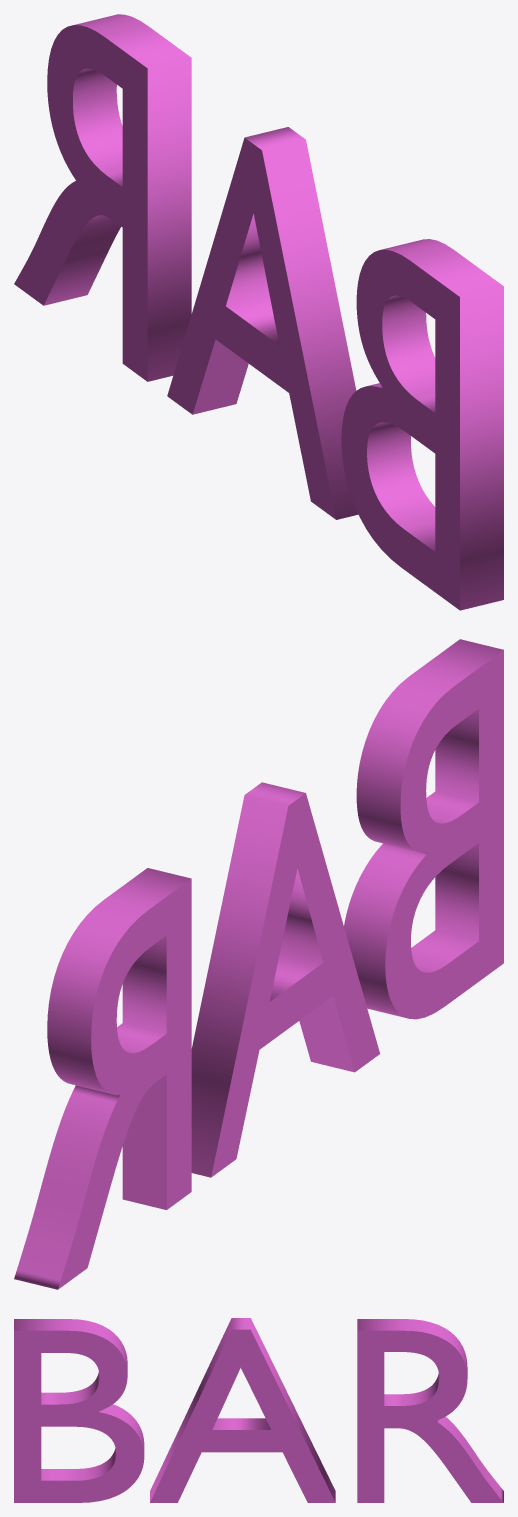
File: BarSign.fbx
3 views of the same model, one above another, from view 1: azimuth 30°, elevation 25°; view 2: azimuth 150°, elevation 25°; view 3: azimuth 270°, elevation 25° (orthographic). The views are drawn at different scales.
Parts seen in each view (by area): view 1: BarText; view 2: BarText; view 3: BarText.
Part boxes in pixels (box(x1,y1,x2,y2)): BarText: box(14, 14, 503, 610); BarText: box(14, 639, 503, 1289); BarText: box(14, 1318, 503, 1502).
Bounding box in the file's own units: 61.57 × 3.5 × 24.01.
